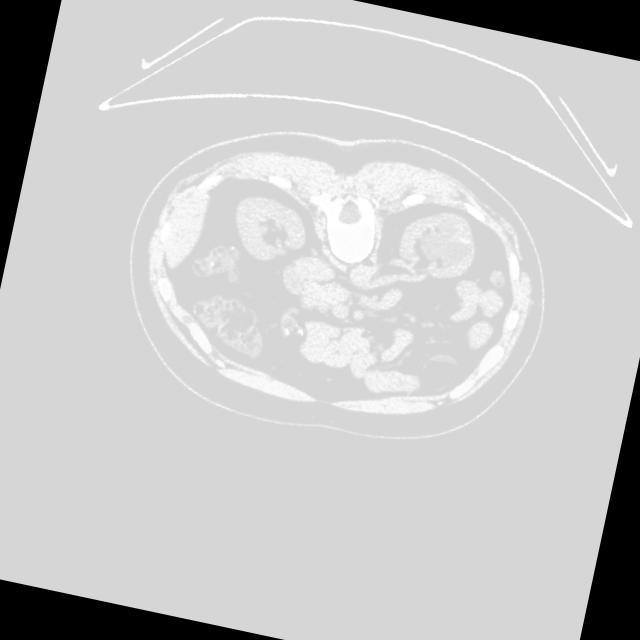cysts: (176, 143, 485, 433)
